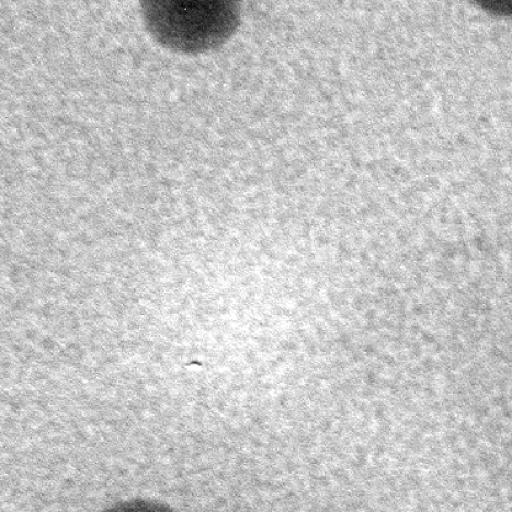Nanoparticles: (136, 1, 250, 61), (104, 493, 178, 512), (473, 0, 512, 23)
